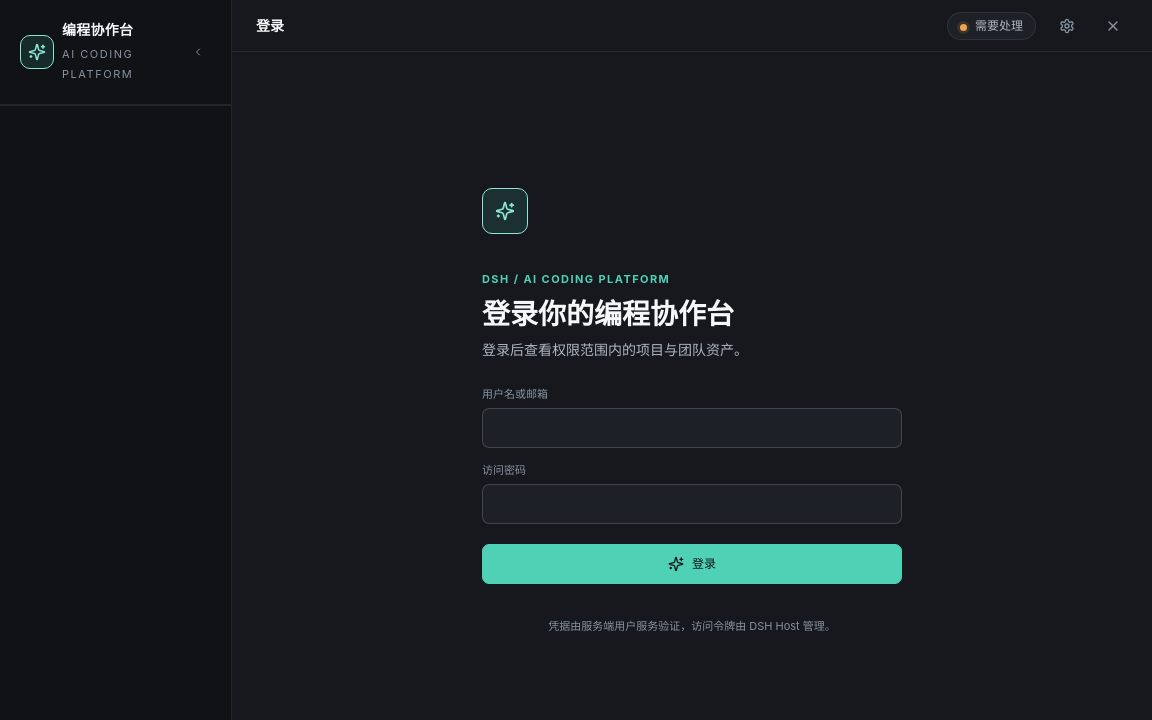
it: AI Coding platform demo › enters the asset overview immediately after Host authentication
Expected: the heading "登录你的编程协作台" is shown, x1=482 y1=297 x2=734 y2=331
Expected: the heading "从权限范围内的资产开始协作" is not shown
Type "member@example.com" into the field labelled "用户名或邮箱" at x=692, y=428, box x1=482 y1=408 x2=902 y2=448
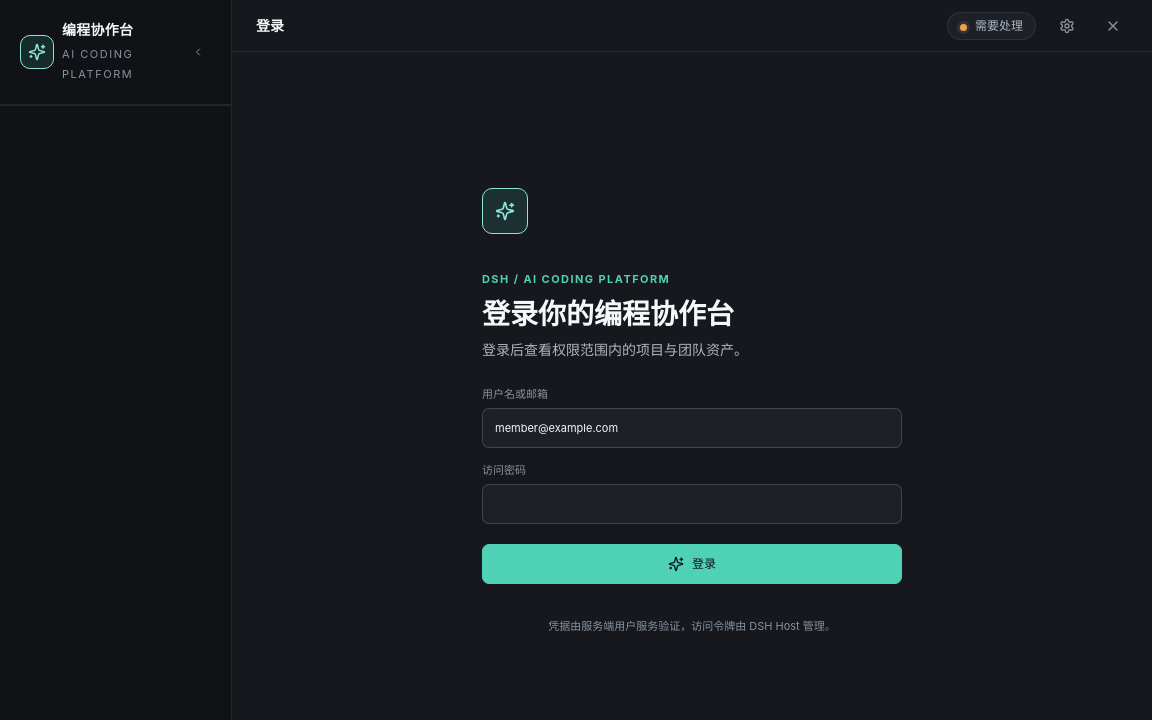
Type "secret" into the password field labelled "访问密码" at x=692, y=504, box x1=482 y1=484 x2=902 y2=524
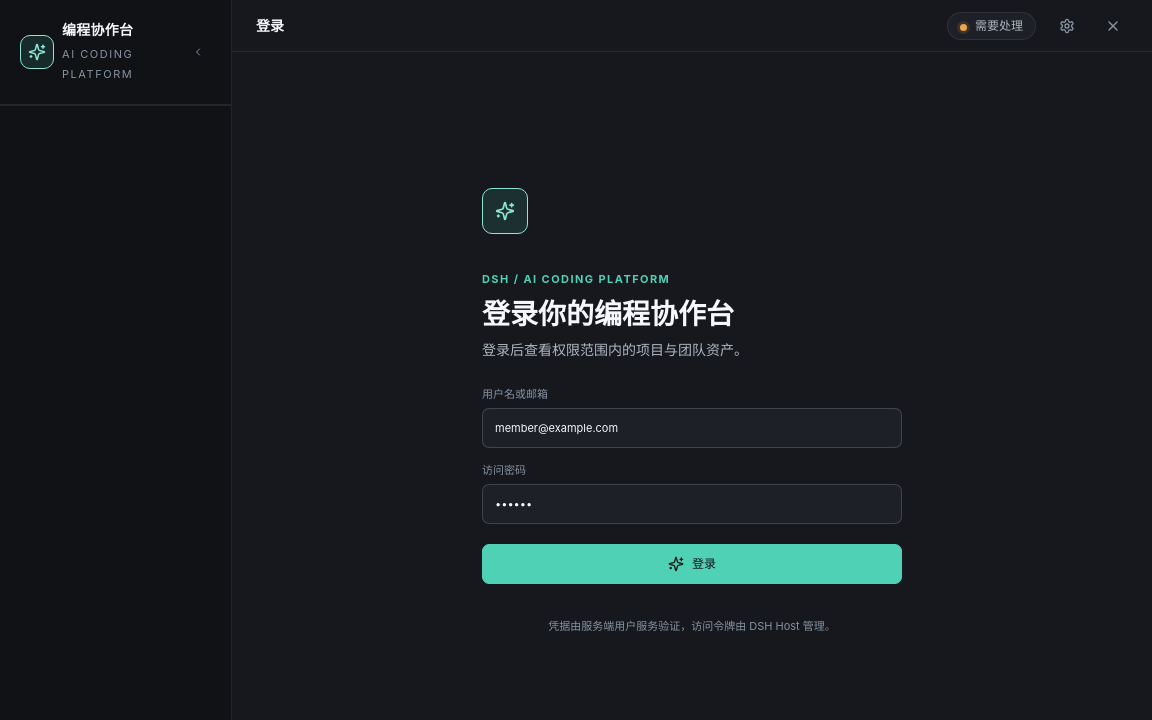
Click the button "登录" at x=692, y=564, box x1=482 y1=544 x2=902 y2=584
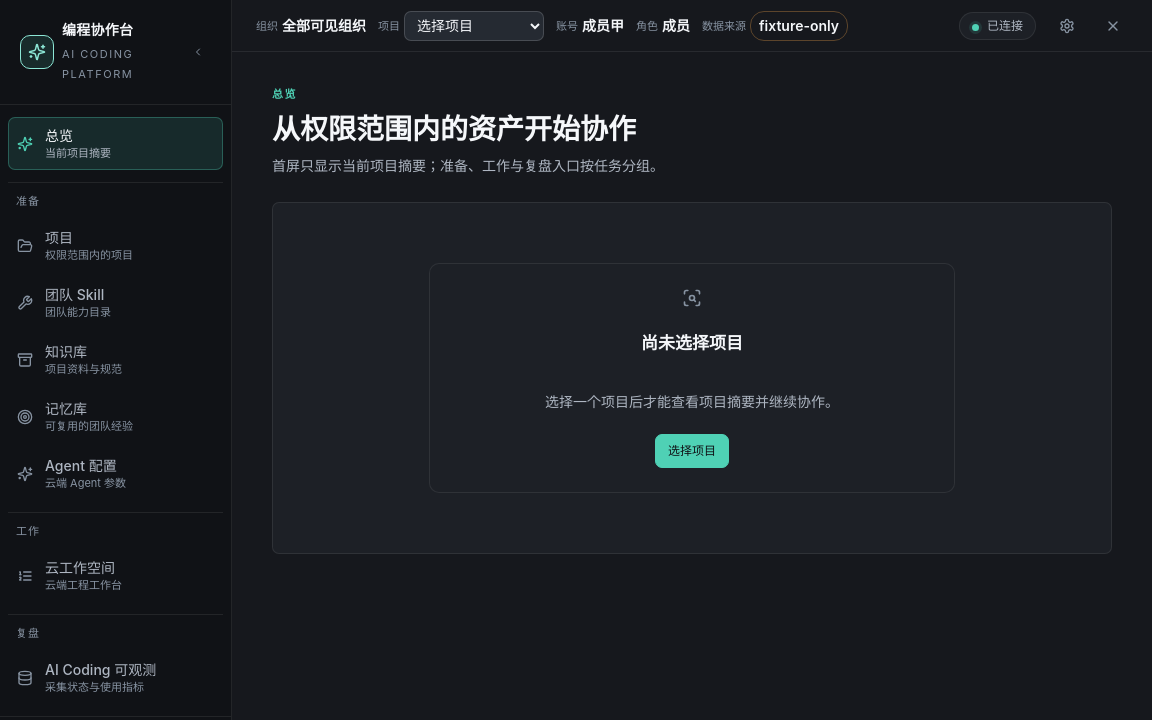
Result: the heading "从权限范围内的资产开始协作" is shown at x1=272 y1=112 x2=664 y2=146
